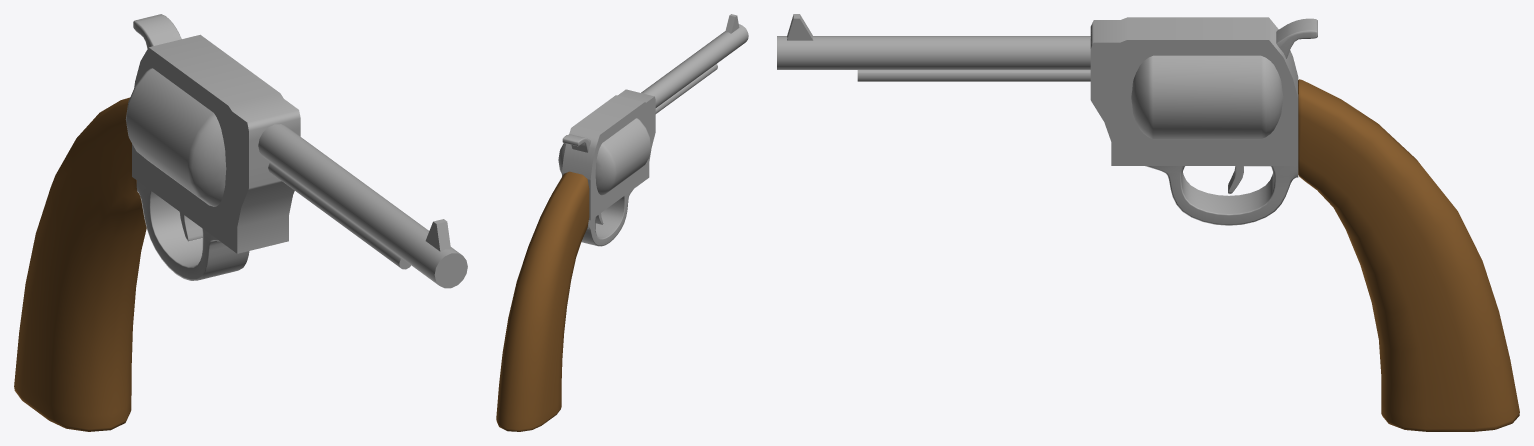
File: Revolver1.fbx
The picture shows the model from 3 angles, left to right: view 1: azimuth 30°, elevation 25°; view 2: azimuth 150°, elevation 25°; view 3: azimuth 270°, elevation 25°; orthographic projection. The views are drawn at different scales.
Visible parts, largest first — view 1: Revolver_MainBody1; view 2: Revolver_MainBody1; view 3: Revolver_MainBody1.
Boxes of the visible parts, x1=… form: Revolver_MainBody1: x1=14, y1=14, x2=467, y2=431; Revolver_MainBody1: x1=496, y1=14, x2=748, y2=431; Revolver_MainBody1: x1=777, y1=14, x2=1519, y2=431.
Size of the model in its own units: 3.5 by 14.42 by 24.22.
